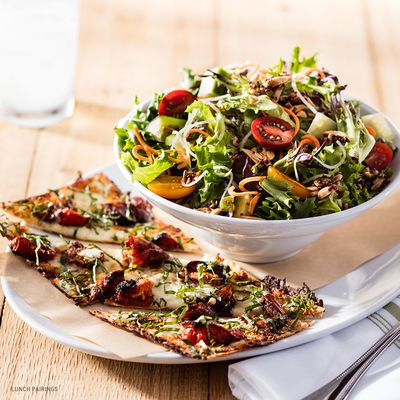sushi: (113, 51, 399, 264)
